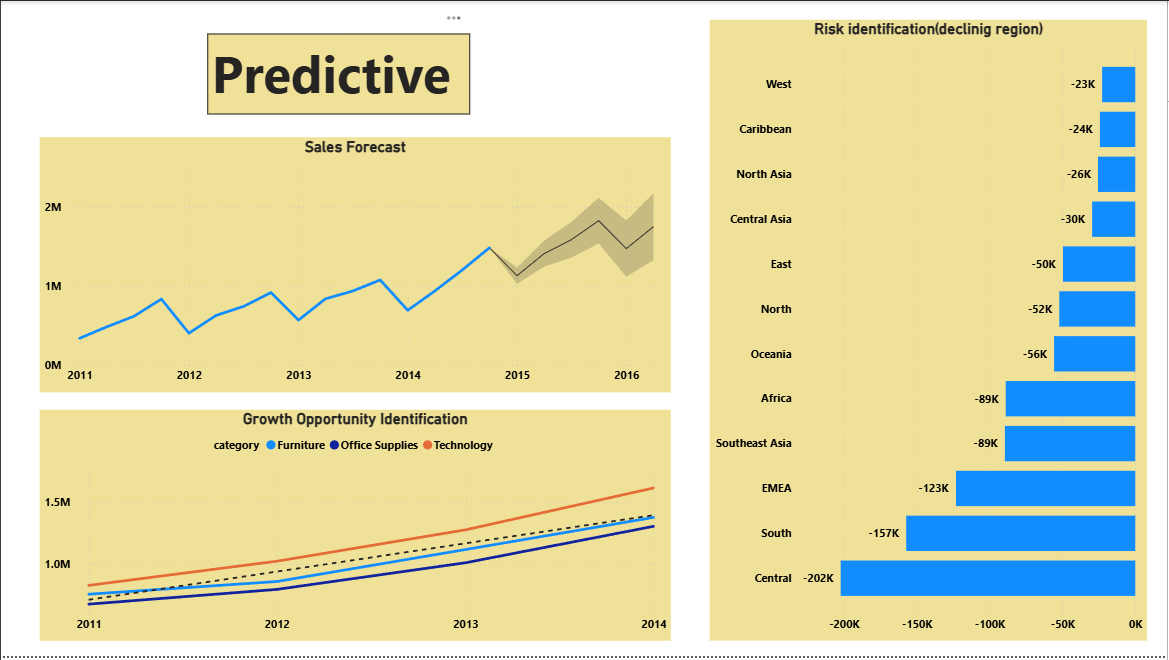

The dashboard page shown, as its layout file describes it:
{"tool":"powerbi","page":{"name":"predictive","canvas":[1280,720],"ordinal":3},"visuals":[{"type":"lineChart","title":"Sales Forecast","fields":{"Y":["Sum(SuperStoreOrders.sales)"],"Category":["SuperStoreOrders.order_date.Variation.Date Hierarchy.Year","SuperStoreOrders.order_date.Variation.Date Hierarchy.Quarter","SuperStoreOrders.order_date.Variation.Date Hierarchy.Month","SuperStoreOrders.order_date.Variation.Date Hierarchy.Day"]},"box":[42.5,149.6,693,279.9],"z":0},{"type":"clusteredBarChart","title":"Risk identification(declinig region)","fields":{"Y":["Sum(SuperStoreOrders.profit)"],"Category":["SuperStoreOrders.region"]},"box":[778,20.6,480.3,682],"z":1000},{"type":"lineChart","title":"Growth Opportunity Identification","fields":{"Category":["SuperStoreOrders.order_date.Variation.Date Hierarchy.Year","SuperStoreOrders.order_date.Variation.Date Hierarchy.Quarter","SuperStoreOrders.order_date.Variation.Date Hierarchy.Month","SuperStoreOrders.order_date.Variation.Date Hierarchy.Day"],"Series":["SuperStoreOrders.category"],"Y":["Sum(SuperStoreOrders.sales)"]},"box":[42.5,448.7,693,253.9],"z":2000},{"type":"textbox","box":[226.4,35.7,288.2,89.2],"z":3000}]}

Visuals, with their boxes in screenshot pixels (x1, y1, x2, y2), scaled from the page's 1280x720 canvas onto the 1169x660 screenshot:
"Sales Forecast" lineChart: bbox=(39, 137, 672, 394)
"Risk identification(declinig region)" clusteredBarChart: bbox=(711, 19, 1149, 644)
"Growth Opportunity Identification" lineChart: bbox=(39, 411, 672, 644)
textbox: bbox=(207, 33, 470, 114)
